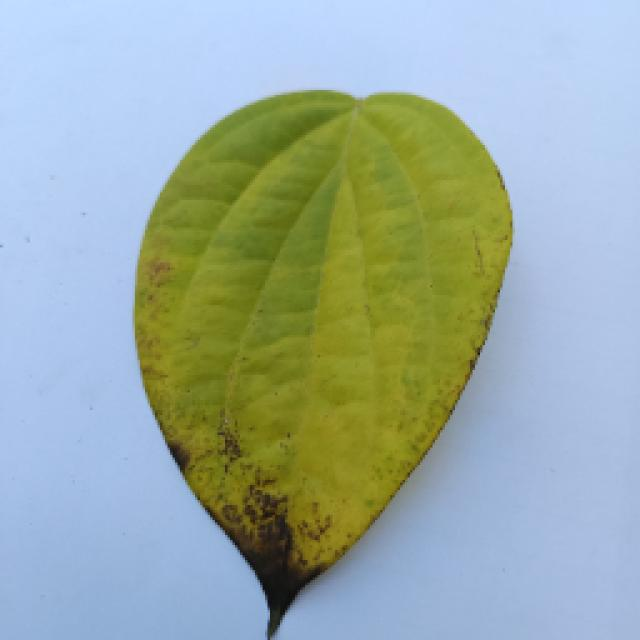slow-decline: (105, 90, 557, 640)
